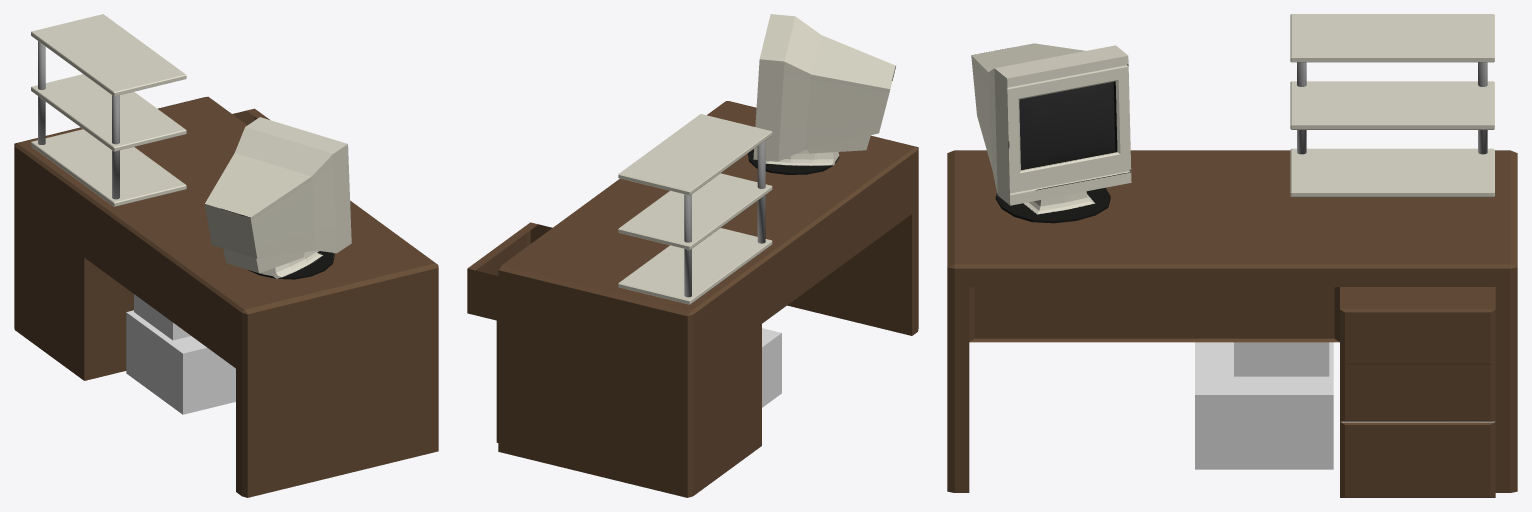
Rendered from desk.glb.
3 views of the same model, side by side, from view 1: azimuth 30°, elevation 25°; view 2: azimuth 150°, elevation 25°; view 3: azimuth 270°, elevation 25° (orthographic). The views are drawn at different scales.
Visible parts, largest first — view 1: desk, deskshelf, Plane, junk; view 2: desk, deskshelf, Plane, junk; view 3: desk, deskshelf, Plane, junk.
Boxes of the visible parts, x1,y1,x2,y2 form: desk: (14, 96, 438, 497); deskshelf: (31, 14, 186, 206); Plane: (205, 117, 351, 279); junk: (126, 294, 235, 414); desk: (467, 101, 918, 497); deskshelf: (618, 114, 772, 304); Plane: (748, 14, 895, 174); junk: (762, 328, 781, 407); desk: (947, 150, 1517, 497); deskshelf: (1290, 14, 1494, 197); Plane: (971, 43, 1131, 223); junk: (1195, 342, 1333, 469).
Bounding box in the file's own units: 0.9294 × 1.13 × 1.56.
5 materials, 3 textured.
